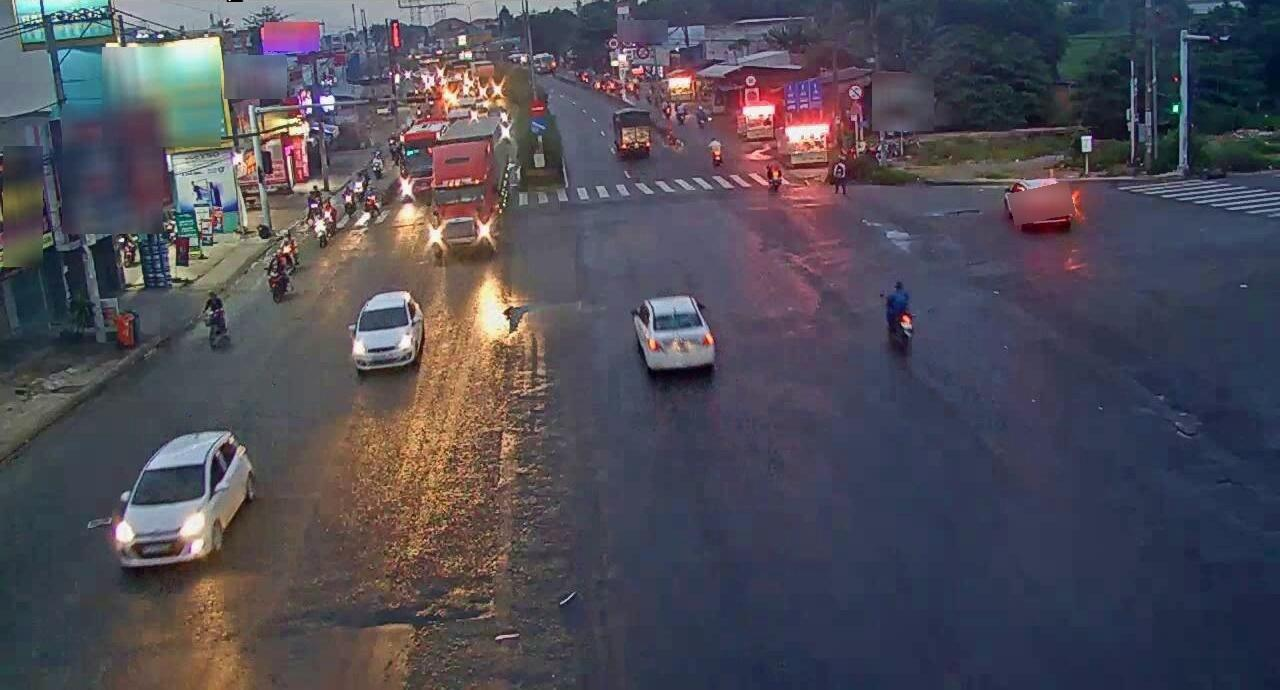xe hoi: (114, 425, 255, 569), (632, 294, 715, 371), (350, 286, 419, 365)
xe may: (879, 280, 921, 355)
